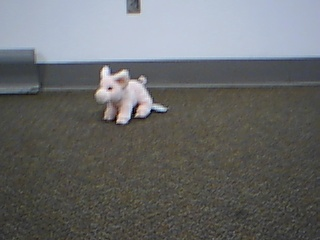piggy: (94, 63, 154, 126)
